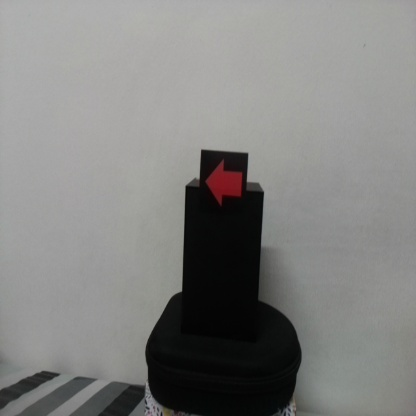id_4: (200, 150, 247, 222)
